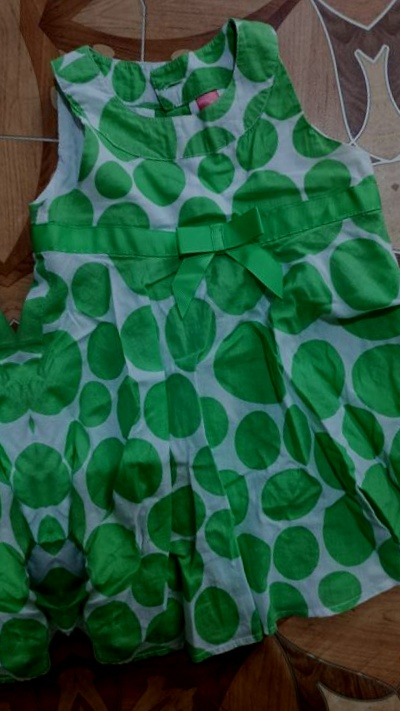Dress: (0, 0, 400, 694), (0, 55, 73, 711), (362, 0, 400, 626), (0, 0, 355, 21)
